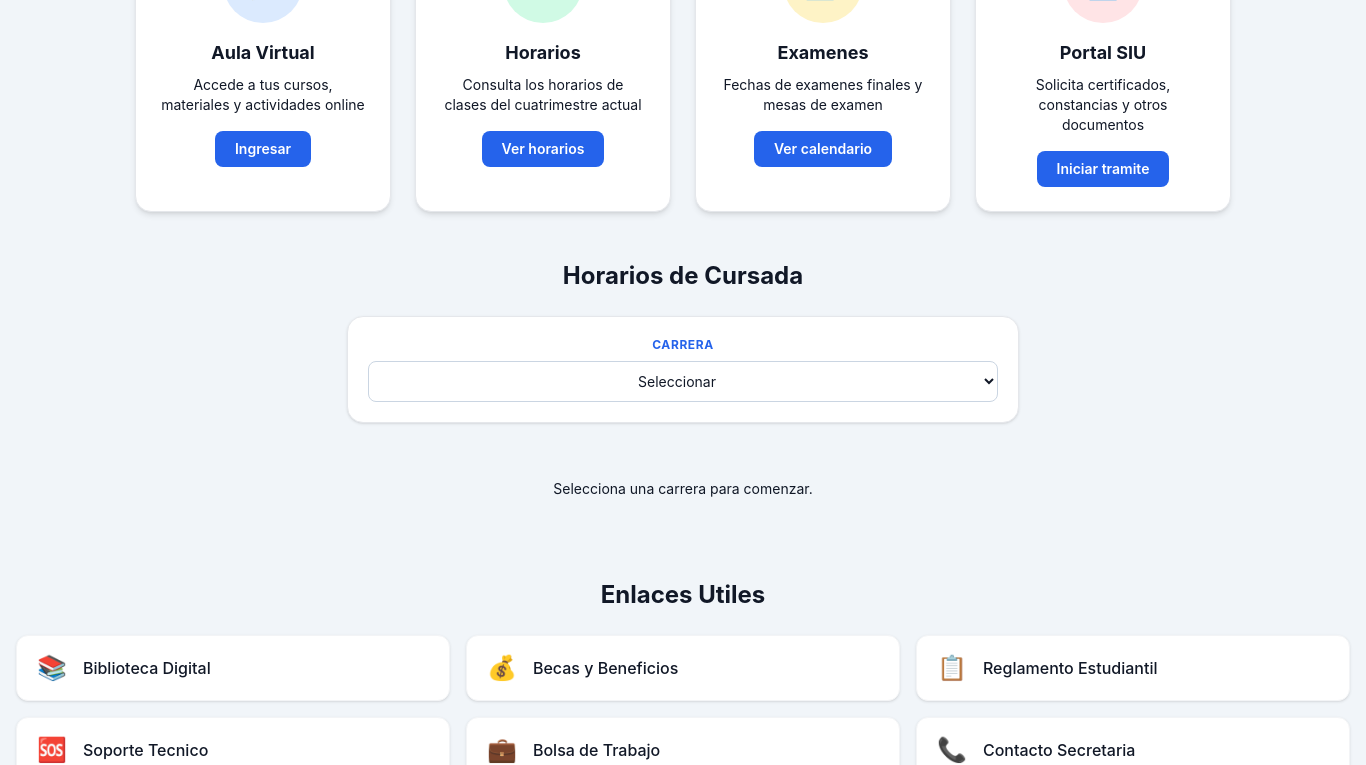
Test: EstudiantesPage › muestra el select de comision al elegir carrera con comisiones
(page scrolled)
Select "Desarrollo de Software" in the dropdown showing "Seleccionar" at (683, 381), box [368, 360, 998, 402]
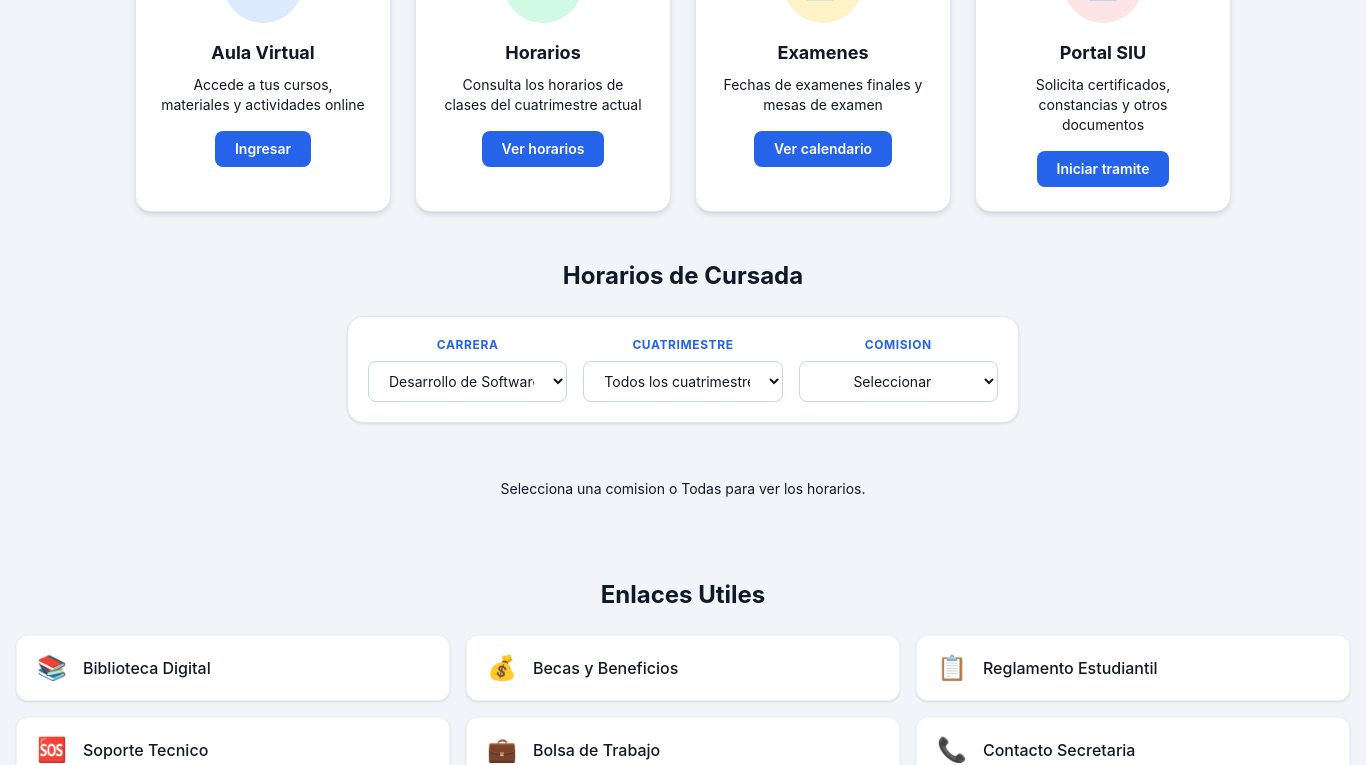
Result: the text "Comision" is shown at [865, 336, 932, 352]
